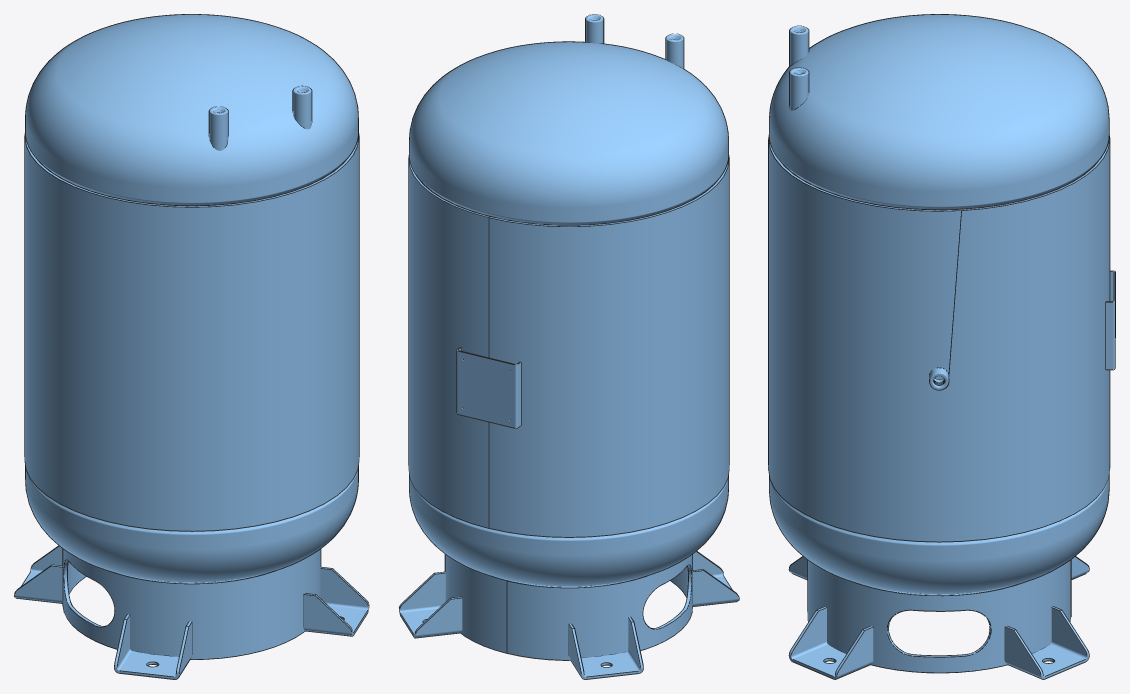
The model's file is MIL150V.glb.
3 renders of one model, left to right at view 1: azimuth 30°, elevation 25°; view 2: azimuth 150°, elevation 25°; view 3: azimuth 270°, elevation 25°, orthographic. The views are drawn at different scales.
Parts seen in each view (by area): view 1: MIL150V Cuerpo-1, Tapa D20-1, MIL150V Faldón V2-1, Tapa D20-2, aristas-mesh, MIL150V Pata-1, edge_lines_black-mesh, MIL150V Pata-2, MIL150V Pata-4, Cople 1I2 x 4 NPT-1, Cople 1I2 x 4 NPT-2; view 2: MIL150V Cuerpo-1, Tapa D20-1, MIL150V Faldón V2-1, Tapa D20-2, aristas-mesh, Porta Placa V2-1, MIL150V Pata-3, edge_lines_black-mesh, MIL150V Pata-4, MIL150V Pata-2, Cople 1I2 x 4 NPT-1; view 3: MIL150V Cuerpo-1, Tapa D20-1, Tapa D20-2, MIL150V Faldón V2-1, aristas-mesh, MIL150V Pata-1, MIL150V Pata-3, edge_lines_black-mesh, Porta Placa V2-1, Cople 1I2 x 4 NPT-2, Cople 1I2 x 4 NPT-1.
Part boxes in pixels (x1,y1,x2,y2): MIL150V Cuerpo-1: (25,140,358,530); Tapa D20-1: (26,14,357,205); MIL150V Faldón V2-1: (63,549,320,659); Tapa D20-2: (26,471,357,582); aristas-mesh: (14,115,369,679); MIL150V Pata-1: (303,567,368,635); edge_lines_black-mesh: (14,14,369,679); MIL150V Pata-2: (114,614,191,679); MIL150V Pata-4: (15,546,63,602); Cople 1I2 x 4 NPT-1: (209,107,227,150); Cople 1I2 x 4 NPT-2: (293,86,311,129); MIL150V Cuerpo-1: (409,162,728,536); Tapa D20-1: (409,42,728,224); MIL150V Faldón V2-1: (445,555,692,659); Tapa D20-2: (409,478,728,586); aristas-mesh: (399,64,738,679); Porta Placa V2-1: (457,348,520,428); MIL150V Pata-3: (399,572,462,637); edge_lines_black-mesh: (399,14,739,679); MIL150V Pata-4: (569,617,642,679); MIL150V Pata-2: (692,552,738,606); Cople 1I2 x 4 NPT-1: (666,34,683,68); MIL150V Cuerpo-1: (769,142,1109,541); Tapa D20-1: (769,14,1108,209); Tapa D20-2: (769,478,1108,594); MIL150V Faldón V2-1: (808,560,1070,672); aristas-mesh: (768,59,1115,679); MIL150V Pata-1: (789,606,873,679); MIL150V Pata-3: (1005,606,1088,679); edge_lines_black-mesh: (768,14,1115,679); Porta Placa V2-1: (1106,271,1114,369); Cople 1I2 x 4 NPT-2: (790,68,808,110); Cople 1I2 x 4 NPT-1: (790,26,808,65).
Size of the model in its own units: 0.5305 by 0.9507 by 0.5207.
